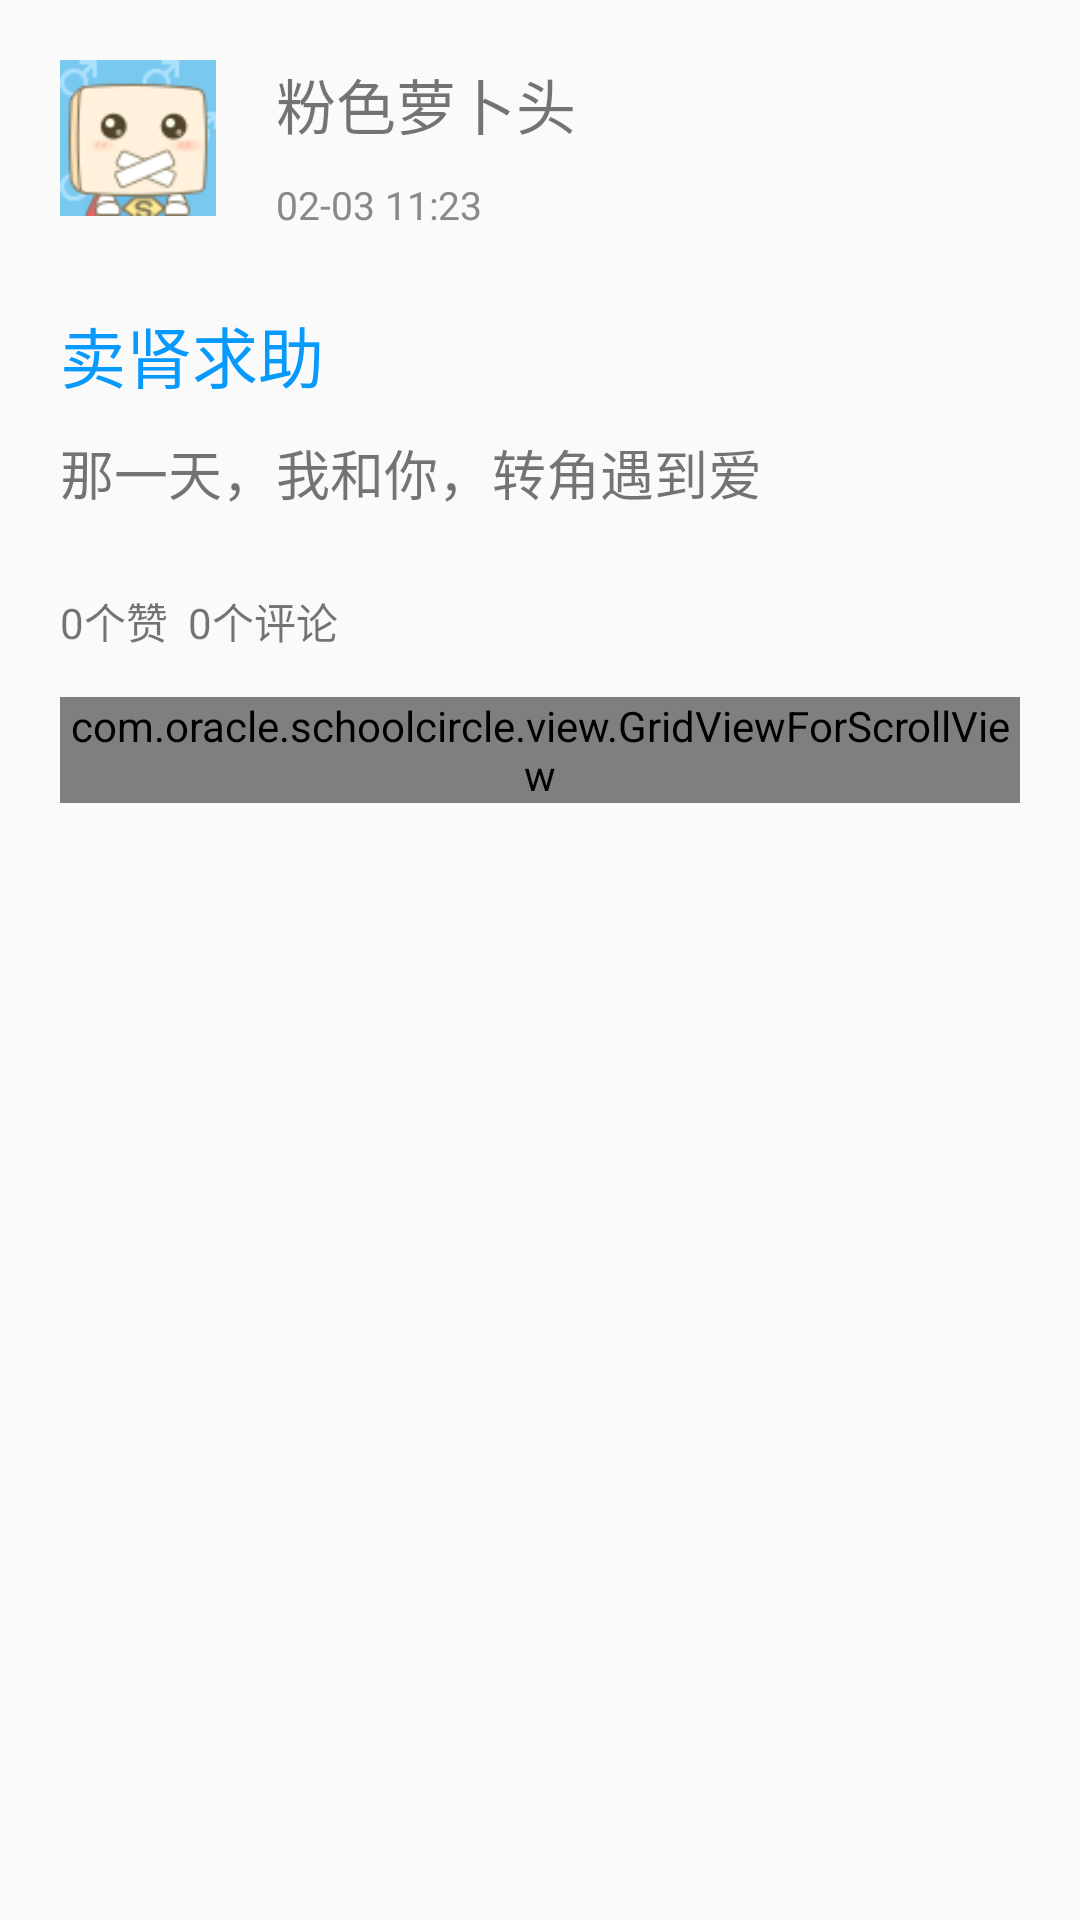

Named icons in this screenshot (1080px x 1920px) and their bounding boxes, detection(x1, y1, x2, y2):
boy: detection(60, 60, 216, 216)
